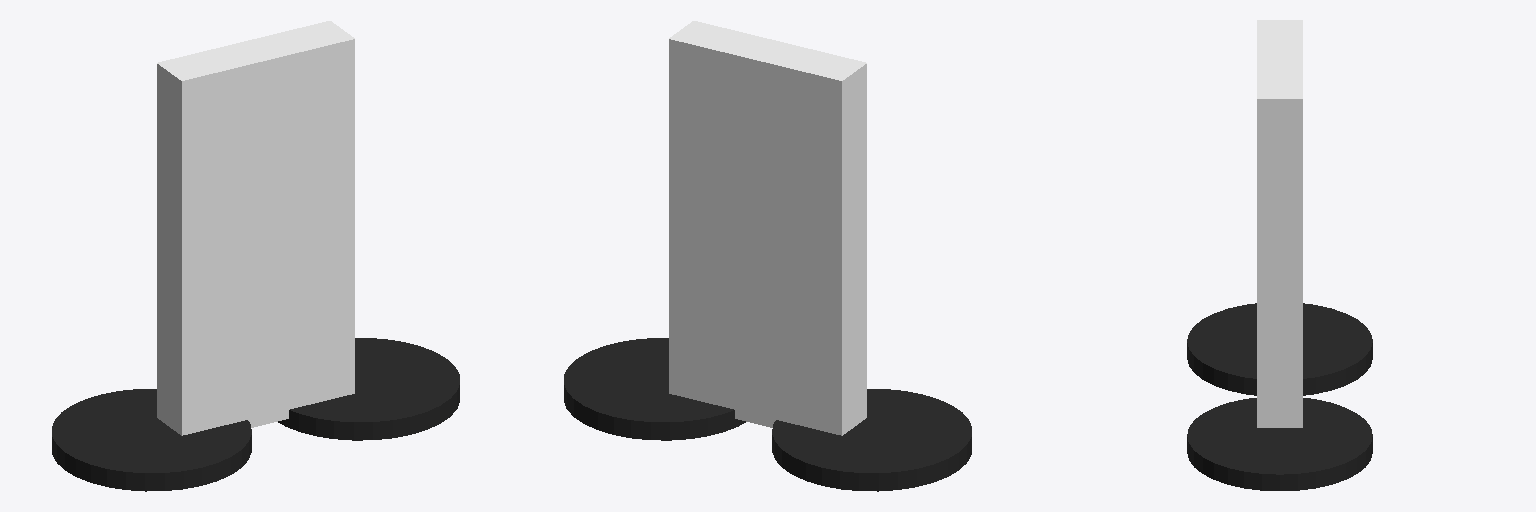
URDF robot description (balance):
<?xml version="1.0"?>
<robot name="balance">

  <material name="white">
    <color rgba="1 1 1 1"/>
  </material>

  <material name="black">
    <color rgba="0.2 0.2 0.2 1"/>
  </material>

  <link name="torso">
    <visual>
      <geometry>
        <box size="0.2 0.05 0.4"/>
      </geometry>
      <origin rpy="0 0 0" xyz="0 0.0 0.3"/>
      <material name="white"/>
    </visual>
    <collision>
      <geometry>
        <box size="0.2 0.05 0.4"/>
      </geometry>
      <origin rpy="0 0 0" xyz="0 0.0 0.3"/>
    </collision>
    <inertial>
      <mass value="0.8"/>
      <inertia ixx="0.001" ixy="0.0" ixz="0.0" iyy="0.001" iyz="0.0" izz="0.001"/>
      <origin rpy="0 0 0" xyz="0 0.0 0.3"/>
    </inertial>
  </link>

  <link name="l_wheel">
    <visual>
      <geometry>
        <cylinder length="0.02" radius="0.1"/>
      </geometry>
      <origin rpy="0 1.5707963 0" xyz="0 0 0"/>
      <material name="black"/>
    </visual>
    <collision>
      <geometry>
        <cylinder length="0.02" radius="0.1"/>
      </geometry>
      <origin rpy="0 1.5707963 0" xyz="0 0 0"/>
      <contact_coefficients mu="0.8" />
    </collision>
    <inertial>
      <mass value="0.1"/>
      <inertia ixx="0.0001" ixy="0.0" ixz="0.0" iyy="0.0001" iyz="0.0" izz="0.0001"/>
      <origin rpy="0 0 0" xyz="0 0 0"/>
    </inertial>
  </link>

  <link name="r_wheel">
    <visual>
      <geometry>
        <cylinder length="0.02" radius="0.1"/>
      </geometry>
      <origin rpy="0 1.5707963 0" xyz="0 0 0"/>
      <material name="black"/>
    </visual>
    <collision>
      <geometry>
        <cylinder length="0.02" radius="0.1"/>
      </geometry>
      <origin rpy="0 1.5707963 0" xyz="0 0 0"/>
      <contact_coefficients mu="0.8" />
    </collision>
    <inertial>
      <mass value="0.1"/>
      <inertia ixx="0.0001" ixy="0.0" ixz="0.0" iyy="0.0001" iyz="0.0" izz="0.0001"/>
      <origin rpy="0 0 0" xyz="0 0 0"/>
    </inertial>
  </link>

  <joint name="torso_l_wheel" type="revolute">
    <parent link="torso"/>
    <child link="l_wheel"/>
    <axis xyz="0 0 1"/>
    <limit effort="1000.0" lower="-0.548" upper="0.548" velocity="0.0"/>
    <origin rpy="0 -1.5707963 0" xyz="-0.12 0.0 0.1"/>
  </joint>

  <joint name="torso_r_wheel" type="revolute">
    <parent link="torso"/>
    <child link="r_wheel"/>
    <axis xyz="0 0 -1"/>
   <limit effort="1000.0" lower="-0.548" upper="0.548" velocity="0.0"/>
   <origin rpy="0 1.5707963 0" xyz="0.12 0.0 0.1"/>
  </joint>

</robot>

--- Facts derived from the render (not from the file) ---
3 views of the same robot in one strip: view 1: azimuth 30°, elevation 25°; view 2: azimuth 150°, elevation 25°; view 3: azimuth 270°, elevation 25° (orthographic).
Robot: balance — 3 links, 2 joints (2 revolute); root link torso; default pose: all joints at 0.
Visible links, largest first — view 1: torso, l_wheel, r_wheel; view 2: torso, l_wheel, r_wheel; view 3: torso, r_wheel, l_wheel.
Boxes of the visible links, x1,y1,x2,y2 form: torso: (157, 21, 354, 435); l_wheel: (52, 389, 251, 491); r_wheel: (278, 338, 459, 440); torso: (669, 21, 866, 435); l_wheel: (772, 389, 971, 491); r_wheel: (564, 338, 745, 440); torso: (1257, 20, 1302, 427); r_wheel: (1187, 398, 1372, 490); l_wheel: (1187, 303, 1372, 395).
Bounding box of the posed robot: 0.44 × 0.2 × 0.41 m (x, y, z).
Geometry: primitives only (box / cylinder / sphere), no mesh files.